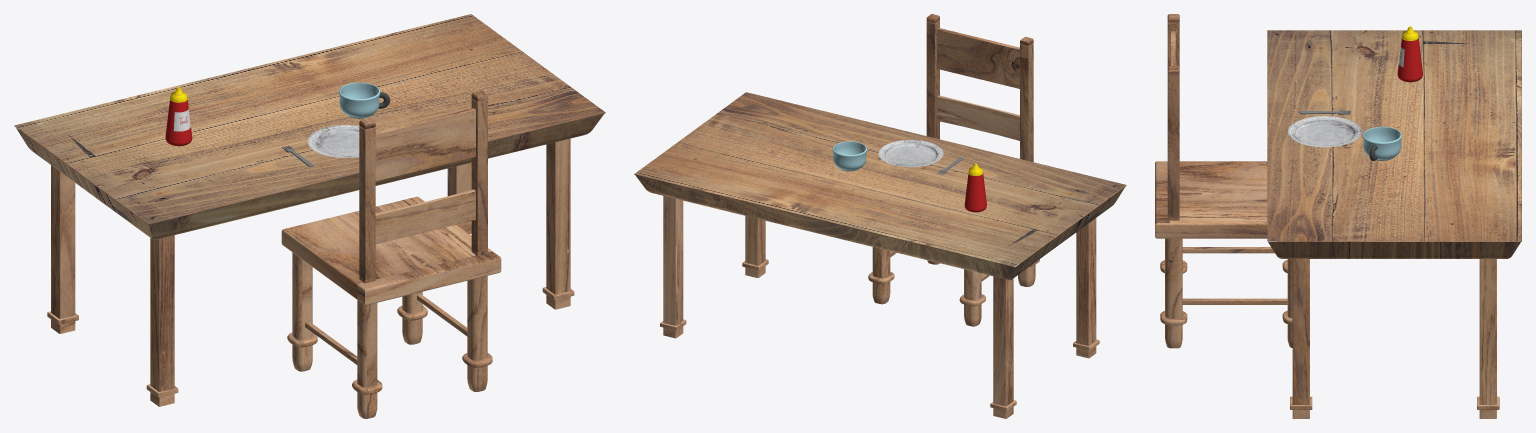
File: 3d_dinner_table_set.glb
3 views of the same model, side by side, from view 1: azimuth 30°, elevation 25°; view 2: azimuth 150°, elevation 25°; view 3: azimuth 270°, elevation 25° (orthographic). The views are drawn at different scales.
Visible parts, largest first — view 1: Table1:pCube7, chair1:pCube15, plate1:pDisc1, Cup_3:pCylinder1, sauce_bottle2:pCylinder1; view 2: Table1:pCube7, chair1:pCube15, plate1:pDisc1, Cup_3:pCylinder1, sauce_bottle2:pCylinder1; view 3: Table1:pCube7, chair1:pCube15, plate1:pDisc1, sauce_bottle2:pCylinder1, Cup_3:pCylinder1.
Part boxes in pixels (x1,y1,x2,y2): Table1:pCube7: (14, 14, 605, 406); chair1:pCube15: (281, 91, 501, 418); plate1:pDisc1: (307, 125, 376, 158); Cup_3:pCylinder1: (339, 82, 380, 118); sauce_bottle2:pCylinder1: (165, 87, 192, 146); Table1:pCube7: (634, 92, 1126, 418); chair1:pCube15: (868, 14, 1039, 326); plate1:pDisc1: (878, 139, 943, 167); Cup_3:pCylinder1: (832, 141, 866, 171); sauce_bottle2:pCylinder1: (964, 163, 986, 212); Table1:pCube7: (1267, 30, 1521, 418); chair1:pCube15: (1155, 14, 1292, 348); plate1:pDisc1: (1287, 116, 1361, 147); sauce_bottle2:pCylinder1: (1397, 26, 1422, 82); Cup_3:pCylinder1: (1362, 126, 1401, 160).
Bounding box in the file's own units: 16.41 × 10.14 × 12.04.
Materials: 7 (4 with a texture image).
